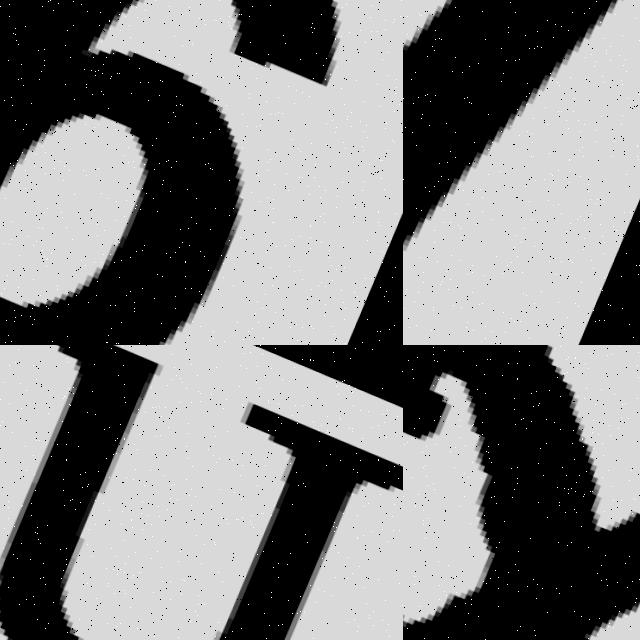9: (0, 0, 389, 345)
H: (403, 0, 611, 248), (0, 345, 159, 640), (215, 395, 403, 640)
X: (403, 345, 640, 640)
